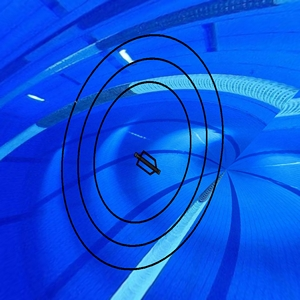circle: (59, 32, 226, 272)
submarine: (133, 148, 163, 179)
